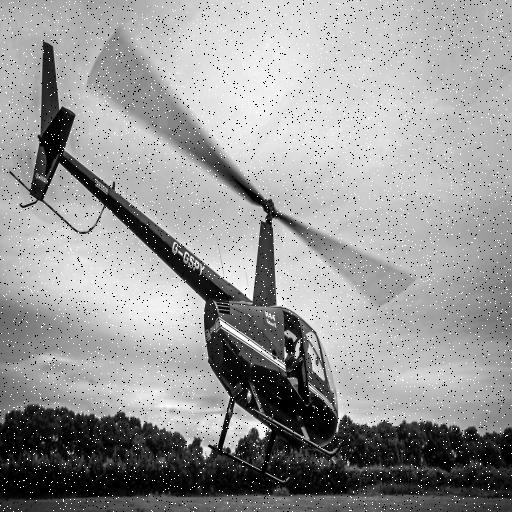helicopter: (10, 26, 417, 486)
